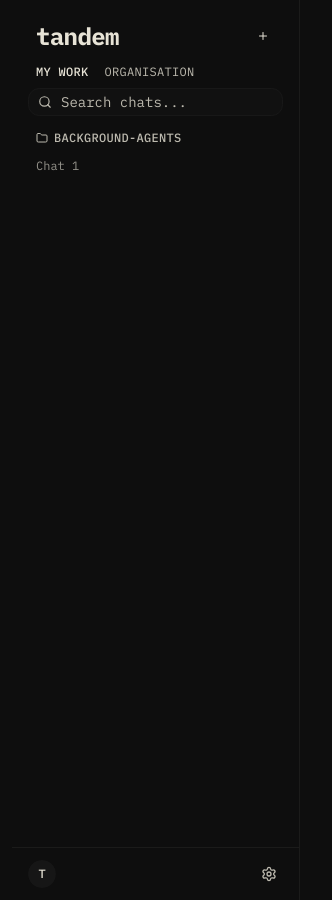
it: SessionSidebar › opens rename actions on mobile long press
Press the mouse on the link "Chat 1" at (58, 166), box [36,158,79,173]
Wait 450 ms
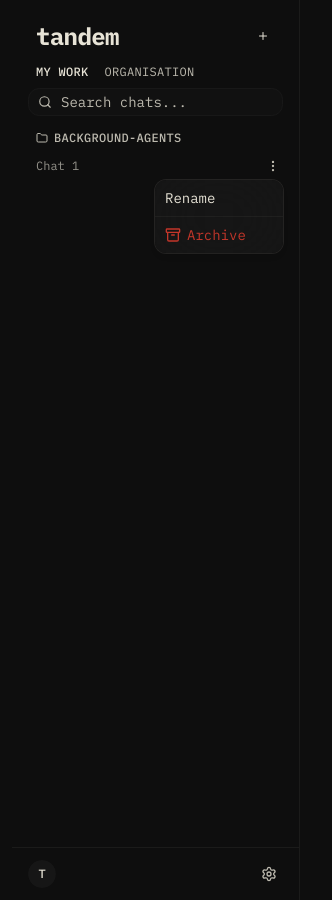
Now the menu item "Rename" is shown, box [165,189,215,207]
